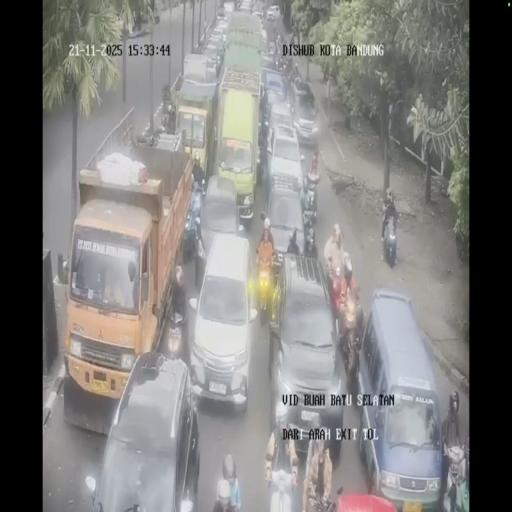car: (356, 289, 442, 502), (90, 353, 198, 509), (268, 255, 342, 451), (189, 232, 257, 406), (197, 174, 243, 260), (262, 184, 306, 260), (266, 104, 300, 164), (261, 68, 288, 112), (202, 41, 224, 78), (294, 77, 315, 110), (259, 26, 269, 60), (215, 5, 229, 22), (267, 4, 280, 21), (239, 0, 253, 13), (253, 6, 263, 18)
motorcycle: (255, 252, 279, 321), (182, 205, 198, 263), (382, 210, 398, 266), (338, 324, 354, 379), (160, 86, 174, 132), (304, 182, 318, 223), (275, 50, 288, 73), (291, 61, 301, 84), (267, 38, 277, 60)
truck: (172, 72, 218, 182), (221, 9, 264, 81)
